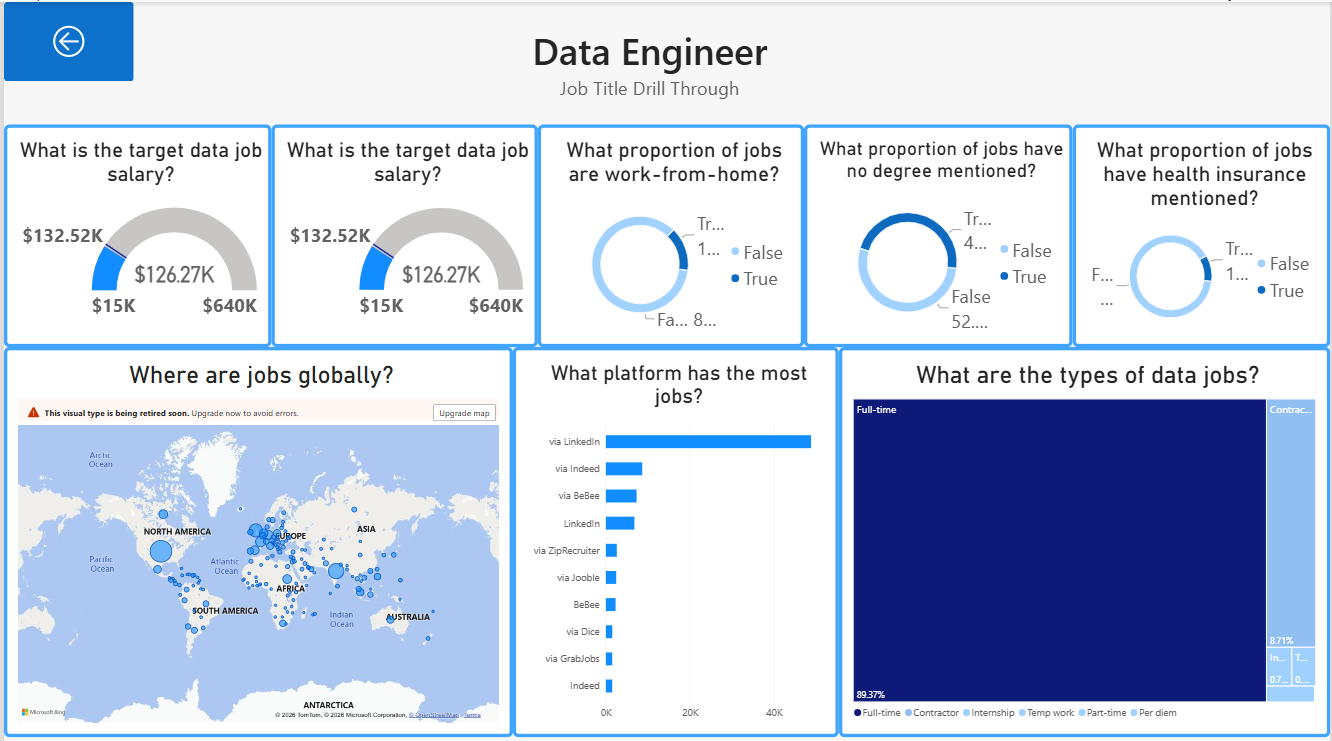

Layout of this report page (visuals, bound fields, positions):
{"tool":"powerbi","page":{"name":"Job Title Drill Through","canvas":[1920,1080],"ordinal":1},"visuals":[{"type":"cardVisual","fields":{"Data":["Min(job_postings_flat.job_title_short)"]},"box":[680.3,0,509.2,177.4],"z":0},{"type":"actionButton","box":[0,0,187.8,114.8],"z":1},{"type":"gauge","title":"What is the target data job salary?","fields":{"MaxValue":["Max(job_postings_flat.salary_year_avg)2"],"MinValue":["Min(job_postings_flat.salary_year_avg)1"],"TargetValue":["Avg(job_postings_flat.salary_year_avg)3"],"Y":["Median(job_postings_flat.salary_year_avg)"]},"box":[0,177.3,387.3,322.1],"z":2},{"type":"gauge","title":"What is the target data job salary?","fields":{"MaxValue":["Max(job_postings_flat.salary_year_avg)2"],"MinValue":["Min(job_postings_flat.salary_year_avg)1"],"TargetValue":["Avg(job_postings_flat.salary_year_avg)3"],"Y":["Median(job_postings_flat.salary_year_avg)"]},"box":[387.3,177.3,385.5,322.1],"z":3},{"type":"donutChart","title":"What proportion of jobs are work-from-home?","fields":{"Category":["job_postings_flat.job_work_from_home"],"Y":["CountNonNull(job_postings_flat.job_work_from_home)"]},"box":[772.7,177.3,385.5,322.1],"z":4},{"type":"donutChart","title":"What proportion of jobs have no degree mentioned?","fields":{"Category":["job_postings_flat.job_no_degree_mention"],"Y":["CountNonNull(job_postings_flat.job_work_from_home)"]},"box":[1158.2,177.3,389.1,322.1],"z":5},{"type":"donutChart","title":"What proportion of jobs have health insurance mentioned?","fields":{"Category":["job_postings_flat.job_health_insurance"],"Y":["CountNonNull(job_postings_flat.job_work_from_home)"]},"box":[1547.3,177.3,372.8,322.1],"z":6},{"type":"map","title":"Where are jobs globally?","fields":{"Category":["job_postings_flat.job_country"],"Size":["CountNonNull(job_postings_flat.job_title_short)"]},"box":[0,499.5,736.5,564.6],"z":7},{"type":"clusteredBarChart","title":"What platform has the most jobs?","fields":{"Category":["job_postings_flat.job_via"],"Y":["CountNonNull(job_postings_flat.job_title_short)"]},"box":[736.5,499.5,472.3,564.6],"z":8},{"type":"treemap","title":"What are the types of data jobs?","fields":{"Group":["job_postings_flat.job_schedule_type"],"Values":["CountNonNull(job_postings_flat.job_schedule_type)"]},"box":[1208.9,499.5,711.2,564.6],"z":9}]}

Visuals, with their boxes in screenshot pixels (x1, y1, x2, y2), scaled from the page's 1920x1080 canvas onto the 1332x741 screenshot:
cardVisual - Min(job_postings_flat.job_title_short): left=472, top=0, right=825, bottom=122
actionButton: left=0, top=0, right=130, bottom=79
"What is the target data job salary?" gauge: left=0, top=122, right=269, bottom=343
"What is the target data job salary?" gauge: left=269, top=122, right=536, bottom=343
"What proportion of jobs are work-from-home?" donutChart: left=536, top=122, right=804, bottom=343
"What proportion of jobs have no degree mentioned?" donutChart: left=804, top=122, right=1073, bottom=343
"What proportion of jobs have health insurance mentioned?" donutChart: left=1073, top=122, right=1331, bottom=343
"Where are jobs globally?" map: left=0, top=343, right=511, bottom=730
"What platform has the most jobs?" clusteredBarChart: left=511, top=343, right=839, bottom=730
"What are the types of data jobs?" treemap: left=839, top=343, right=1331, bottom=730
